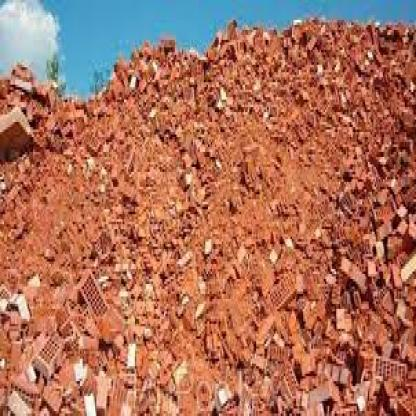brick: (0, 18, 414, 414)
